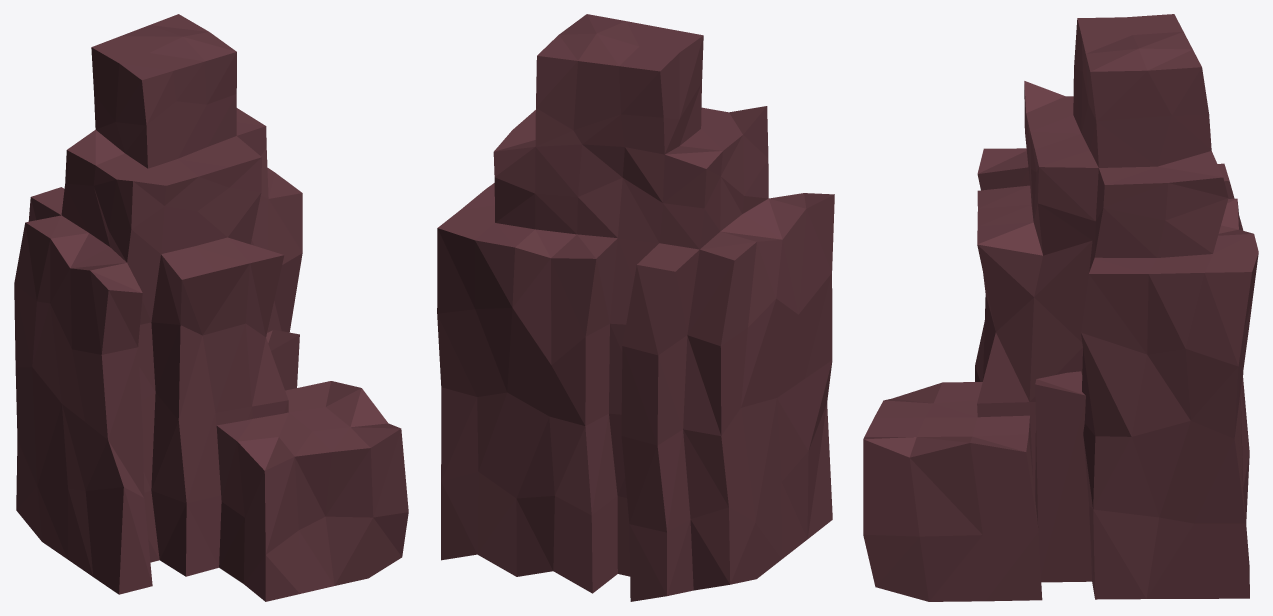
File: rocha - versão 4.fbx
3 renders of one model, left to right at view 1: azimuth 30°, elevation 25°; view 2: azimuth 150°, elevation 25°; view 3: azimuth 270°, elevation 25°, orthographic. The views are drawn at different scales.
Parts seen in each view (by area): view 1: rocha - versão 4; view 2: rocha - versão 4; view 3: rocha - versão 4.
Boxes of the visible parts, x1,y1,x2,y2 form: rocha - versão 4: (14,14,408,601); rocha - versão 4: (437,14,834,601); rocha - versão 4: (863,14,1258,601).
Bounding box in the file's own units: 148 × 269 × 189.
